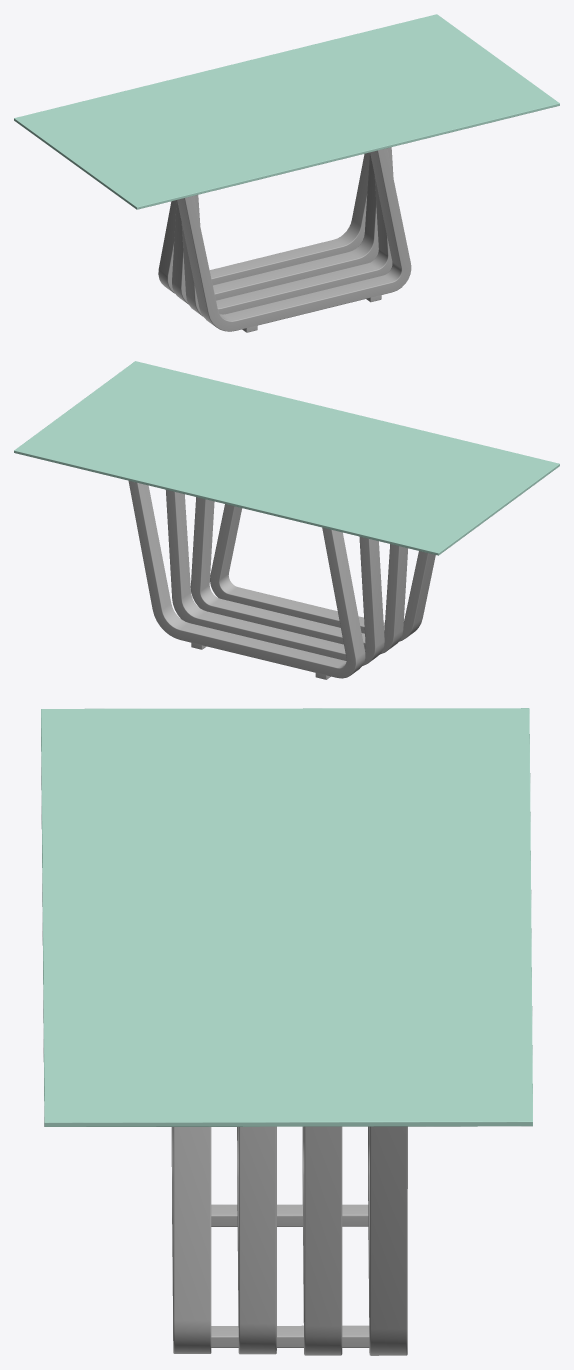
File: mesita-v.1.2.glb
3 renders of one model, top to bottom at view 1: azimuth 30°, elevation 25°; view 2: azimuth 150°, elevation 25°; view 3: azimuth 270°, elevation 25°, orthographic. The views are drawn at different scales.
Visible parts, largest first — view 1: Part 125; view 2: Part 125; view 3: Part 125.
Part boxes in pixels (x1,y1,x2,y2): Part 125: (14,14,559,332); Part 125: (14,361,559,679); Part 125: (41,708,532,1355).
Bounding box in the file's own units: 1.27 × 0.5291 × 0.6395.
